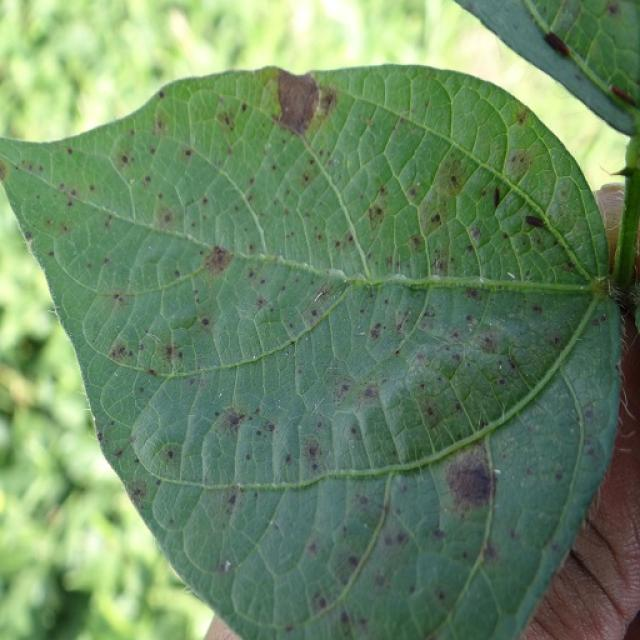Anthracnose: (446, 461, 521, 527), (271, 68, 323, 132), (295, 282, 351, 340), (446, 452, 495, 508), (431, 154, 469, 197), (214, 407, 249, 438), (202, 243, 234, 275), (52, 181, 86, 211), (415, 394, 445, 426), (472, 327, 506, 354), (505, 147, 533, 179), (327, 371, 355, 402), (544, 32, 571, 58), (153, 203, 177, 231), (126, 479, 148, 506), (367, 201, 385, 228), (161, 342, 181, 363), (109, 342, 130, 362), (216, 110, 234, 131), (524, 215, 546, 228), (227, 412, 243, 428), (483, 543, 498, 560), (464, 287, 482, 301), (369, 323, 383, 340), (363, 384, 378, 399), (254, 296, 269, 310), (409, 235, 422, 251), (431, 527, 447, 540), (515, 109, 528, 125), (307, 443, 319, 459), (469, 226, 481, 242), (0, 159, 8, 182), (218, 560, 231, 574), (375, 574, 387, 588), (340, 611, 350, 625), (120, 153, 131, 165), (227, 492, 237, 505), (430, 213, 441, 224), (348, 556, 359, 567), (22, 230, 33, 241), (317, 597, 327, 609), (146, 368, 158, 376), (201, 317, 210, 327), (359, 495, 368, 505), (266, 423, 275, 432), (166, 449, 174, 459), (285, 454, 293, 464), (375, 207, 383, 216), (184, 148, 192, 157), (66, 147, 74, 155)
Blackgram: (0, 66, 619, 639)
